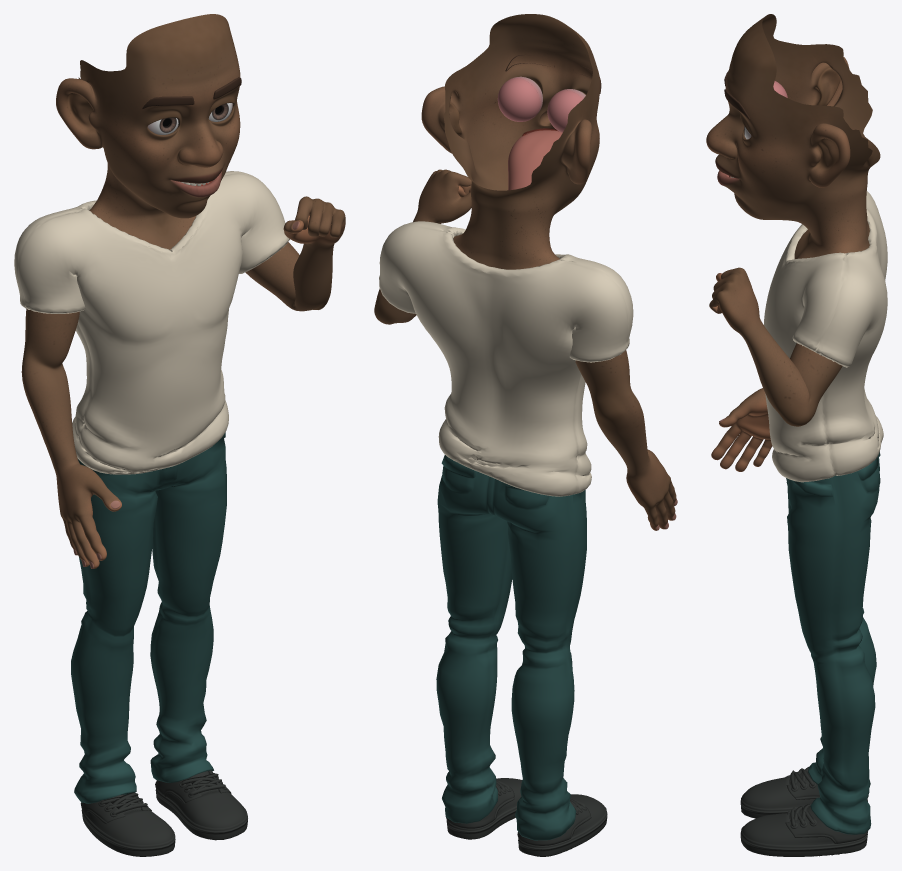
Rendered from snow_teammate.glb.
3 views of the same model, side by side, from view 1: azimuth 30°, elevation 25°; view 2: azimuth 150°, elevation 25°; view 3: azimuth 270°, elevation 25° (orthographic). The views are drawn at different scales.
Parts seen in each view (by area): view 1: Snow-shirt_teammate, Snow-pants_teammate, Snow-head_teammate, Snow-body_teammate, Snow-shoes_base_teammate, Snow-shoes_parts_teammate, Snow-eyebrows_teammate, Snow-eyes_teammate; view 2: Snow-pants_teammate, Snow-shirt_teammate, Snow-head_teammate, Snow-body_teammate, Snow-shoes_base_teammate, Snow-eyes_teammate, Snow-shoes_parts_teammate; view 3: Snow-head_teammate, Snow-pants_teammate, Snow-shirt_teammate, Snow-body_teammate, Snow-shoes_base_teammate, Snow-shoes_parts_teammate.
Boxes of the visible parts, x1,y1,x2,y2 form: Snow-shirt_teammate: (14,171,289,474); Snow-pants_teammate: (71,432,226,803); Snow-head_teammate: (56,14,240,249); Snow-body_teammate: (21,196,345,568); Snow-shoes_base_teammate: (81,771,247,856); Snow-shoes_parts_teammate: (80,770,231,823); Snow-eyebrows_teammate: (142,77,241,109); Snow-eyes_teammate: (147,103,232,134); Snow-pants_teammate: (436,455,586,840); Snow-shirt_teammate: (379,221,633,496); Snow-head_teammate: (421,14,599,269); Snow-body_teammate: (374,169,677,530); Snow-shoes_base_teammate: (446,778,607,856); Snow-eyes_teammate: (497,76,585,132); Snow-shoes_parts_teammate: (445,780,591,845); Snow-head_teammate: (706,14,880,258); Snow-pants_teammate: (786,452,880,834); Snow-shirt_teammate: (764,191,887,482); Snow-body_teammate: (709,267,842,471); Snow-shoes_base_teammate: (740,771,867,856); Snow-shoes_parts_teammate: (785,767,868,843).
Bounding box in the file's own units: 0.7788 × 2.13 × 0.4368.
10 materials, 4 textured.
